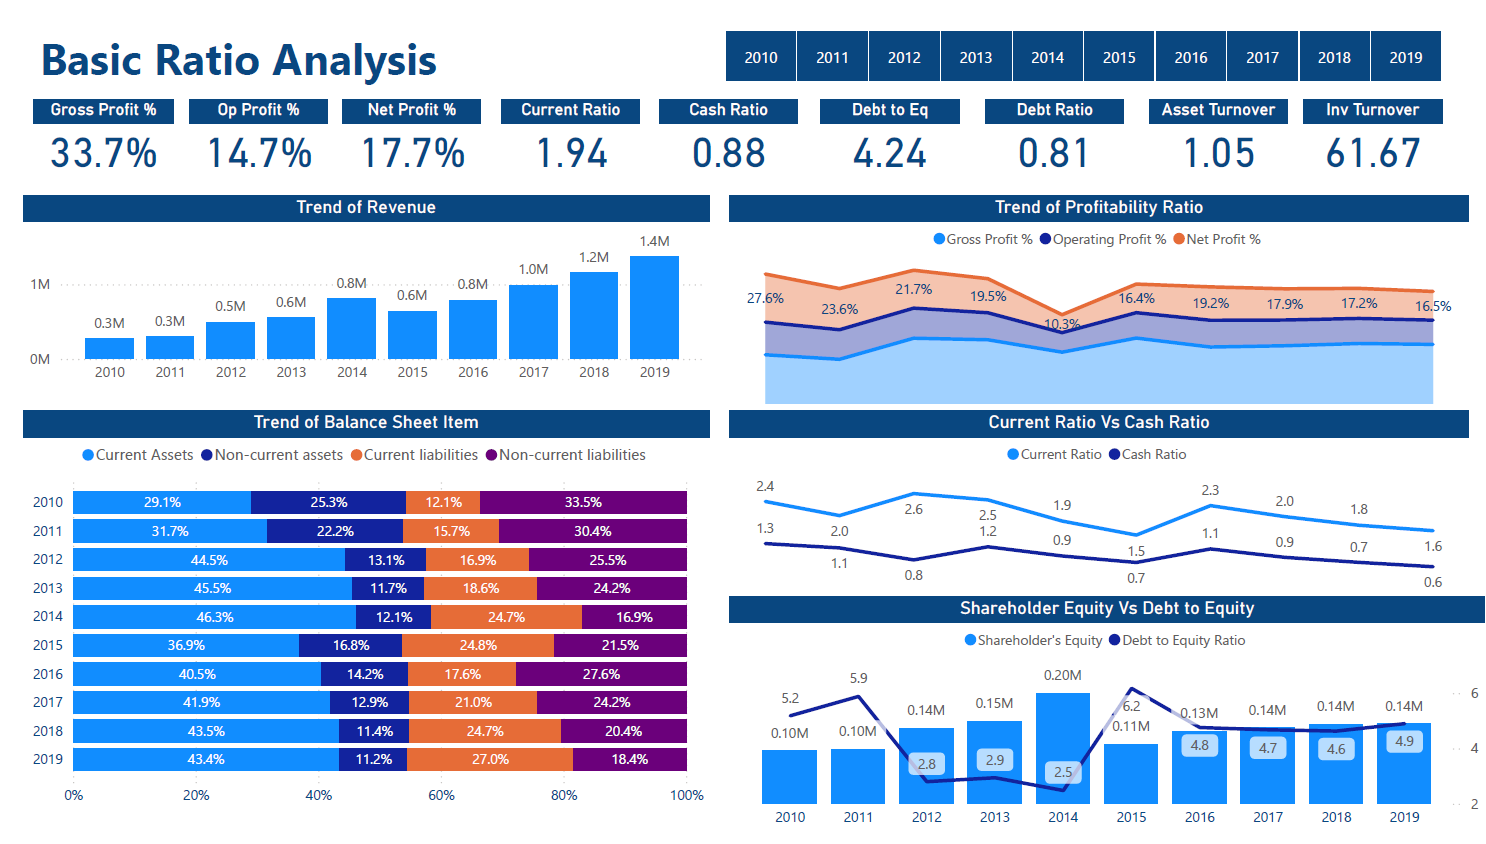

This screenshot's page, from the dashboard's own definition file:
{"tool":"powerbi","page":{"name":"Basic Ratio Analyis","canvas":[1280,720],"ordinal":0},"visuals":[{"type":"textbox","box":[21.4,13.1,504.4,65.4],"z":0},{"type":"slicer","fields":{"Values":["Date.Year"]},"box":[596,13.1,669.7,55.9],"z":1000},{"type":"stackedAreaChart","title":"Trend of Profitability Ratio","fields":{"Y":["Ratio Calculation.Gross Profit %","Ratio Calculation.Operating Profit %","Ratio Calculation.Net Profit %"],"Category":["Date.Year"]},"box":[624.5,161.8,641.2,186.8],"z":2000},{"type":"card","title":"Gross Profit %","fields":{"Values":["Ratio Calculation.Gross Profit %"]},"box":[21.4,78.5,120.1,69],"z":3000},{"type":"card","title":"Op Profit %","fields":{"Values":["Ratio Calculation.Operating Profit %"]},"box":[155.8,78.5,120.1,69],"z":4000},{"type":"card","title":"Net Profit %","fields":{"Values":["Ratio Calculation.Net Profit %"]},"box":[289.1,78.5,120.1,69],"z":5000},{"type":"lineChart","title":"Current Ratio Vs Cash Ratio","fields":{"Y":["Ratio Calculation.Current Ratio","Ratio Calculation.Cash Ratio"],"Category":["Date.Year"]},"box":[624.5,348.6,641.2,161.8],"z":6000},{"type":"card","title":"Current Ratio","fields":{"Values":["Ratio Calculation.Current Ratio"]},"box":[427.1,78.5,120.1,69],"z":7000},{"type":"card","title":"Cash Ratio","fields":{"Values":["Ratio Calculation.Cash Ratio"]},"box":[563.9,78.5,120.1,69],"z":8000},{"type":"lineClusteredColumnComboChart","title":"Shareholder Equity Vs Debt to Equity","fields":{"Category":["Date.Year"],"Y":["Basic Calculations.Shareholder's Equity"],"Y2":["Ratio Calculation.Debt to Equity Ratio"]},"box":[624.5,510.3,655.5,209.4],"z":9000},{"type":"card","title":"Debt to Eq","fields":{"Values":["Ratio Calculation.Debt to Equity Ratio"]},"box":[704.2,78.5,120.1,69],"z":10000},{"type":"card","title":"Debt Ratio","fields":{"Values":["Ratio Calculation.Debt Ratio"]},"box":[847,78.5,120.1,69],"z":11000},{"type":"card","title":"Asset Turnover","fields":{"Values":["Ratio Calculation.Assets Turnover Ratio"]},"box":[988.6,78.5,120.1,69],"z":12000},{"type":"card","title":"Inv Turnover","fields":{"Values":["Ratio Calculation.Inventory Turnover Ratio"]},"box":[1123,78.5,120.1,69],"z":13000},{"type":"hundredPercentStackedBarChart","title":"Trend of Balance Sheet Item","fields":{"Y":["Basic Calculations.Current Assets","Basic Calculations.Non-current assets","Basic Calculations.Current liabilities","Basic Calculations.Non-current liabilities"],"Category":["Date.Year"]},"box":[11.9,348.6,594.8,352.1],"z":14000},{"type":"clusteredColumnChart","title":"Trend of Revenue","fields":{"Y":["Basic Calculations.Revenue"],"Category":["Date.Year"]},"box":[11.9,161.8,594.8,172.5],"z":15000}]}

Visuals, with their boxes in screenshot pixels (x1, y1, x2, y2), scaled from the page's 1280x720 canvas onto the 1486x844 screenshot:
textbox: [x1=25, y1=15, x2=610, y2=92]
slicer - Date.Year: [x1=692, y1=15, x2=1469, y2=81]
"Trend of Profitability Ratio" stackedAreaChart: [x1=725, y1=190, x2=1469, y2=409]
"Gross Profit %" card: [x1=25, y1=92, x2=164, y2=173]
"Op Profit %" card: [x1=181, y1=92, x2=320, y2=173]
"Net Profit %" card: [x1=336, y1=92, x2=475, y2=173]
"Current Ratio Vs Cash Ratio" lineChart: [x1=725, y1=409, x2=1469, y2=598]
"Current Ratio" card: [x1=496, y1=92, x2=635, y2=173]
"Cash Ratio" card: [x1=655, y1=92, x2=794, y2=173]
"Shareholder Equity Vs Debt to Equity" lineClusteredColumnComboChart: [x1=725, y1=598, x2=1485, y2=843]
"Debt to Eq" card: [x1=818, y1=92, x2=957, y2=173]
"Debt Ratio" card: [x1=983, y1=92, x2=1123, y2=173]
"Asset Turnover" card: [x1=1148, y1=92, x2=1287, y2=173]
"Inv Turnover" card: [x1=1304, y1=92, x2=1443, y2=173]
"Trend of Balance Sheet Item" hundredPercentStackedBarChart: [x1=14, y1=409, x2=704, y2=821]
"Trend of Revenue" clusteredColumnChart: [x1=14, y1=190, x2=704, y2=392]
